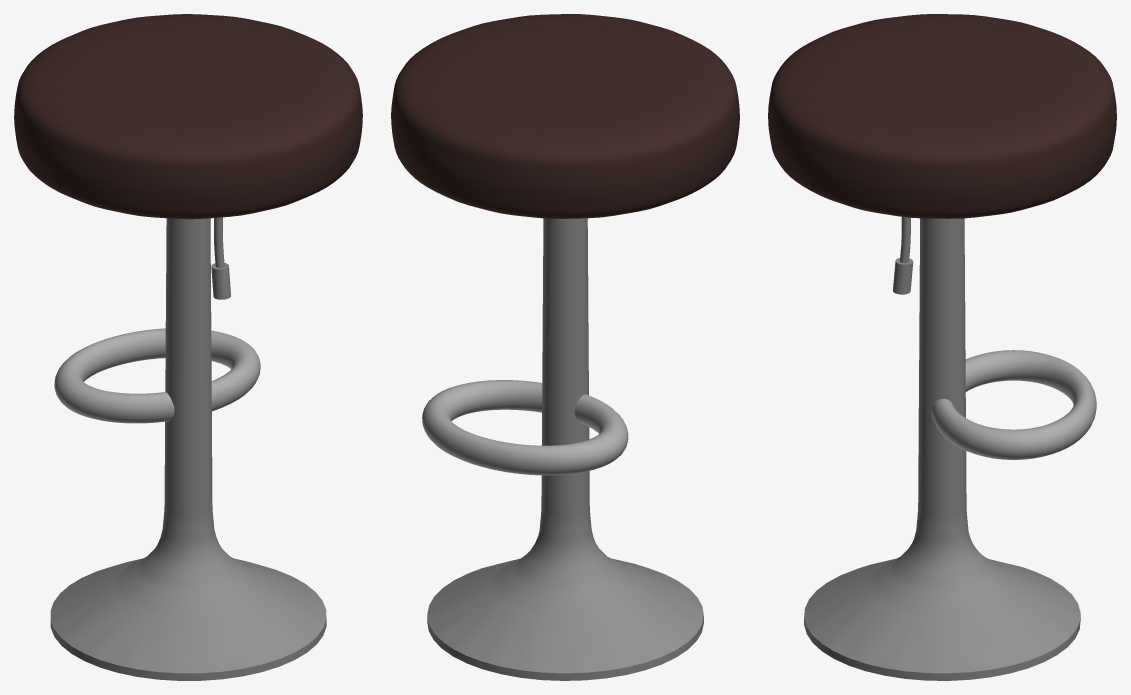
The model's file is Tabouret5_7.fbx.
3 renders of one model, left to right at view 1: azimuth 30°, elevation 25°; view 2: azimuth 150°, elevation 25°; view 3: azimuth 270°, elevation 25°, orthographic.
Parts seen in each view (by area): view 1: pCylinder231, pCylinder232, pTorus2, pCylinder233; view 2: pCylinder231, pCylinder232, pTorus2; view 3: pCylinder231, pCylinder232, pTorus2, pCylinder233.
Part boxes in pixels (box(x1,y1,x2,y2)): pCylinder231: box(14, 14, 362, 219); pCylinder232: box(50, 218, 326, 680); pTorus2: box(54, 328, 260, 423); pCylinder233: box(211, 217, 230, 299); pCylinder231: box(391, 14, 739, 218); pCylinder232: box(427, 218, 703, 680); pTorus2: box(422, 380, 628, 475); pCylinder231: box(768, 14, 1116, 218); pCylinder232: box(804, 218, 1080, 680); pTorus2: box(931, 350, 1096, 459); pCylinder233: box(893, 216, 913, 294).
Bounding box in the file's own units: 32.76 × 56.66 × 32.76.
